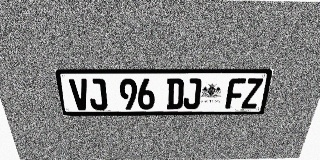6: (137, 78, 154, 109)
9: (119, 78, 138, 110)
D: (166, 78, 184, 109)
F: (225, 78, 246, 109)
J: (87, 79, 108, 110), (183, 78, 202, 109)
V: (68, 79, 91, 110)
Z: (241, 78, 263, 108)
